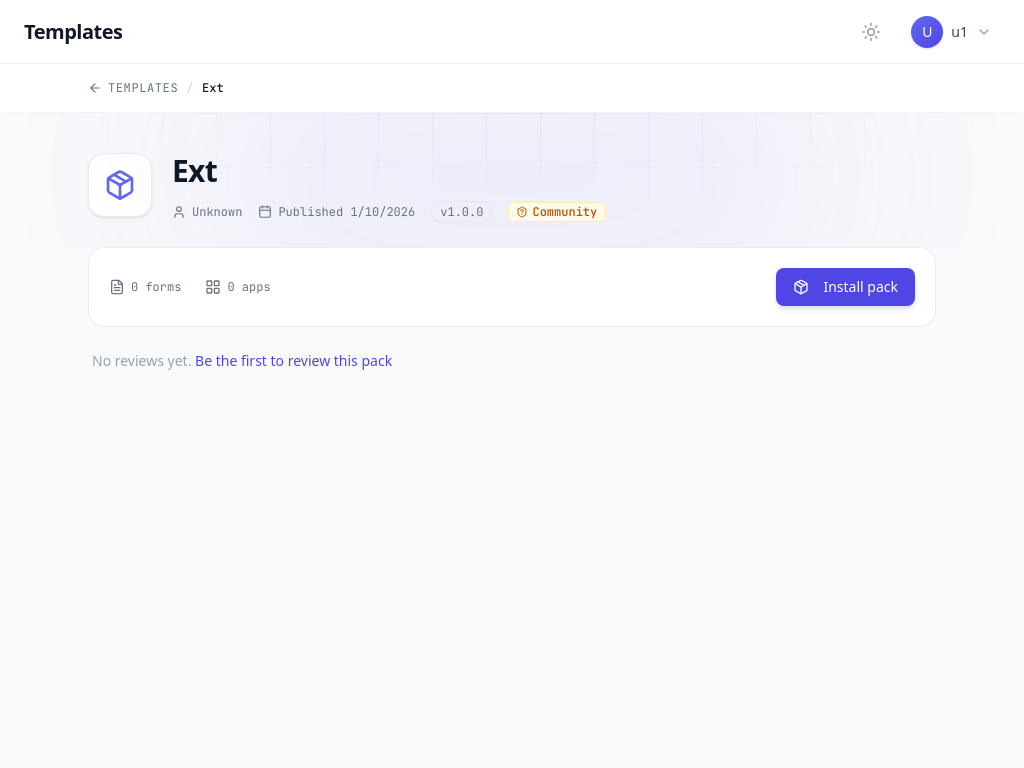
Test: PackDetailPage v2 extension install › closes the review when a confirm fails, since the plan cannot be used again
Click the button "Install pack" at (846, 287), box [776,268,915,306]
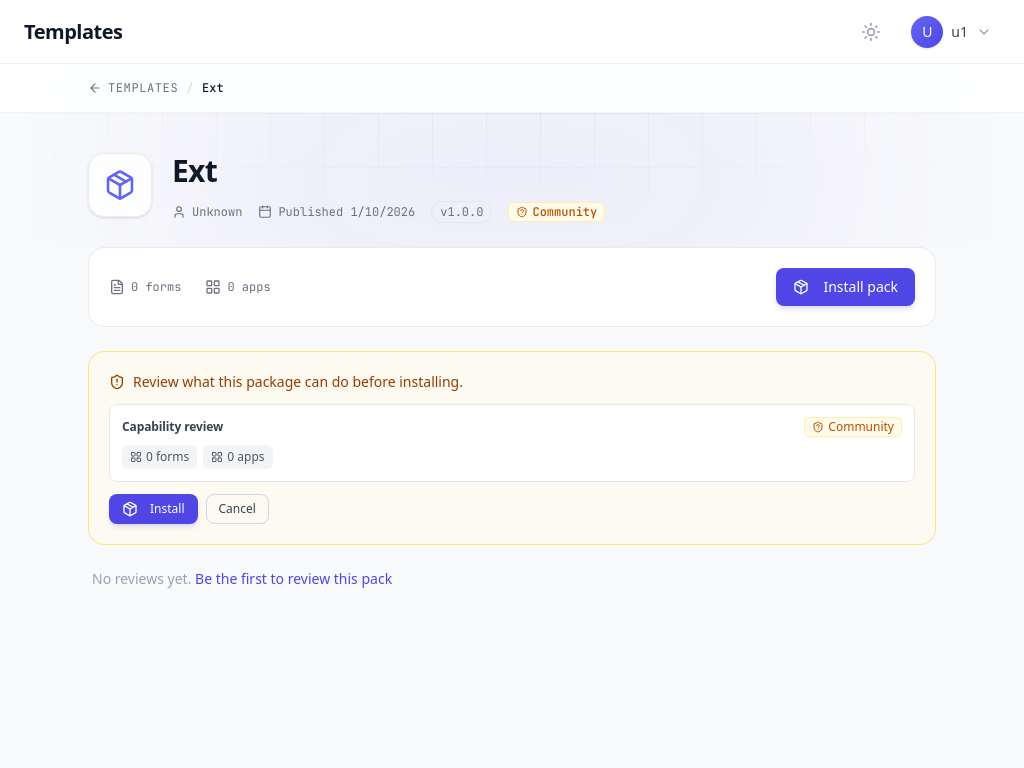
Click the button "Install" at (153, 509), box [109,494,198,524]
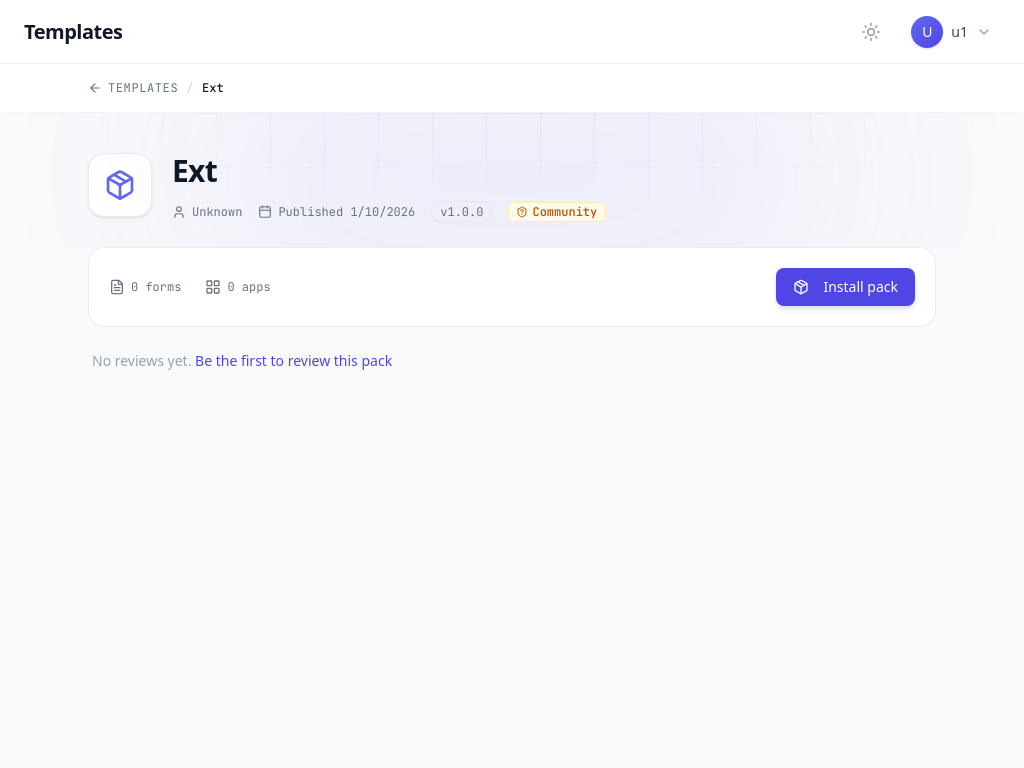
Now the text "Review what this package can do" is gone
